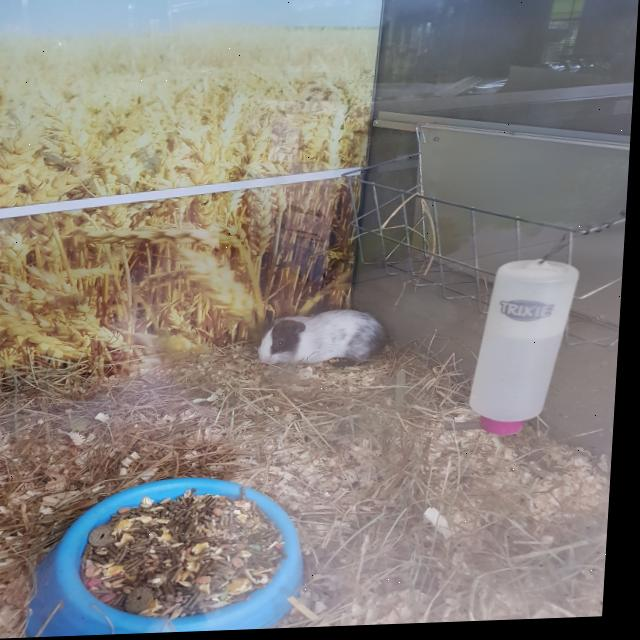guinea pig: (256, 309, 396, 372)
